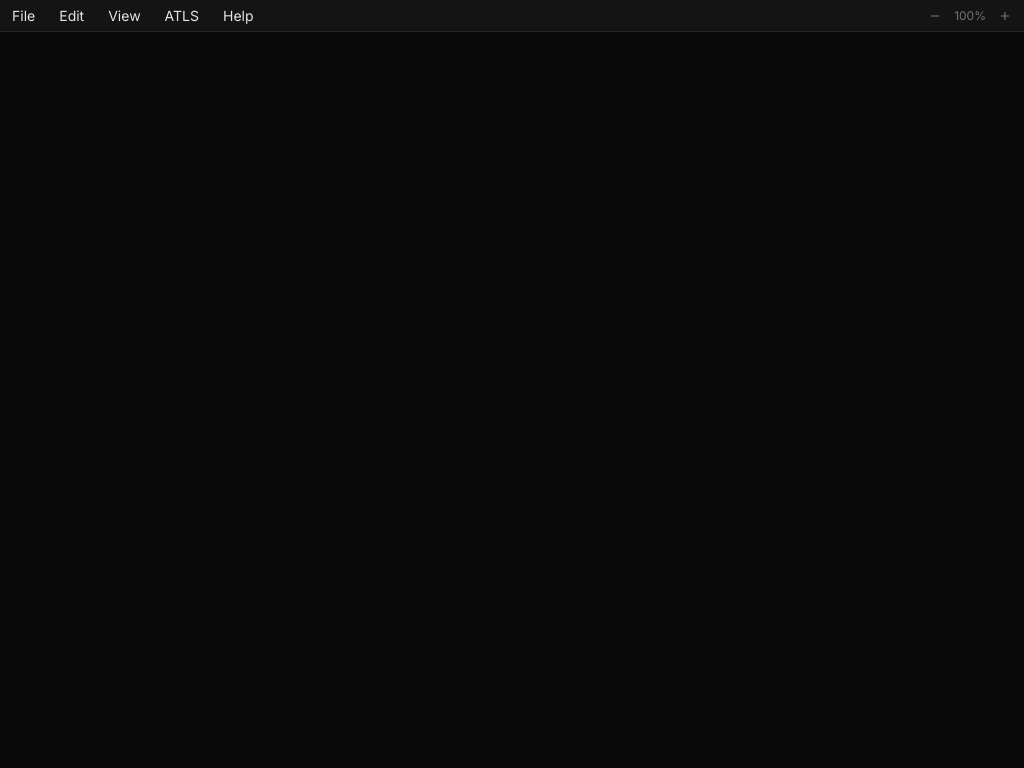
MenuBar › closes dropdown on outside mousedown
The width and height of the screenshot is (1024, 768).
Click the button "File" at (24, 16), box [0,2,47,30]
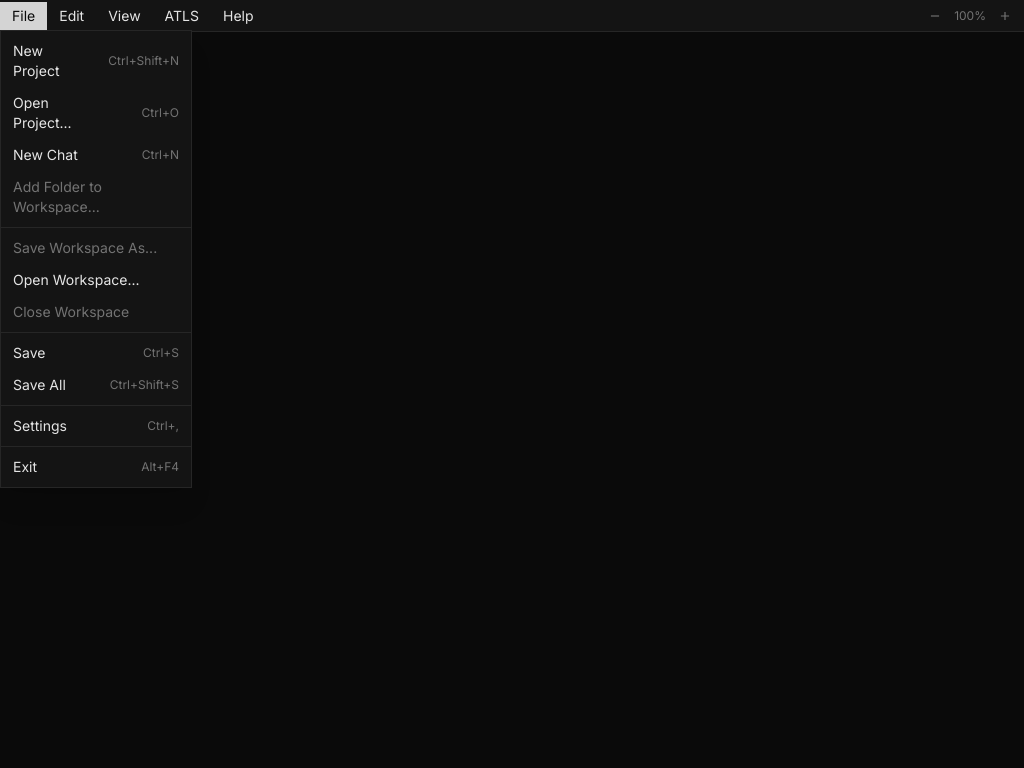
Now the button "New Chat Ctrl+N" is shown, box [1,138,191,170]
Press the mouse on the element that starts with "File" at (512, 384), box [0,0,1023,767]
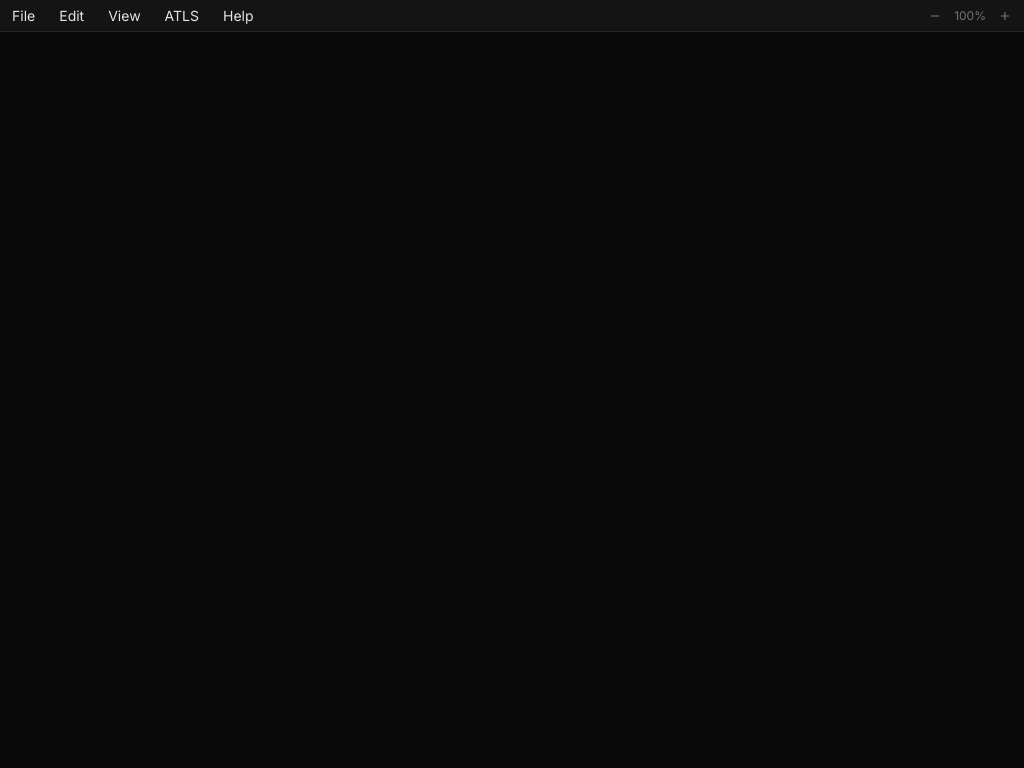
Now the button "New Chat" is gone
